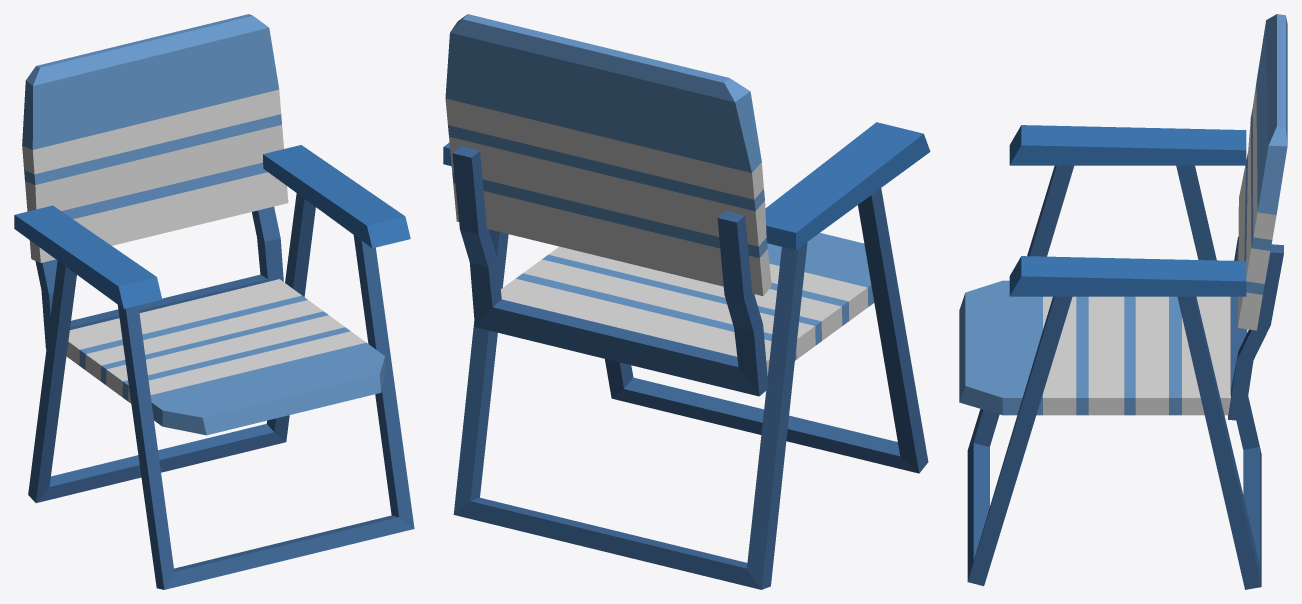
The model's file is SM_Prop_Deckchair_01.fbx.
3 views of the same model, side by side, from view 1: azimuth 30°, elevation 25°; view 2: azimuth 150°, elevation 25°; view 3: azimuth 270°, elevation 25° (orthographic). The views are drawn at different scales.
Parts seen in each view (by area): view 1: SM_Prop_Deckchair_01; view 2: SM_Prop_Deckchair_01; view 3: SM_Prop_Deckchair_01.
Boxes of the visible parts, x1=… form: SM_Prop_Deckchair_01: x1=14, y1=14, x2=414, y2=589; SM_Prop_Deckchair_01: x1=443, y1=14, x2=930, y2=589; SM_Prop_Deckchair_01: x1=959, y1=14, x2=1287, y2=589.
Bounding box in the file's own units: 67.3 × 94.15 × 61.69.
